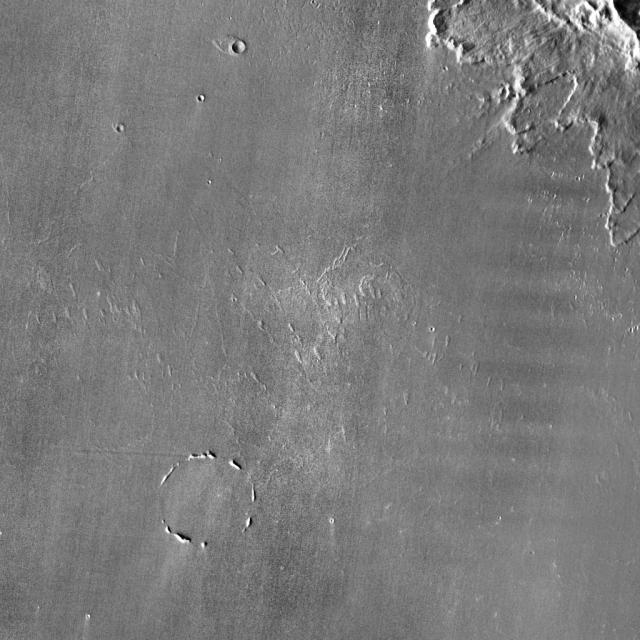crater: (165, 455, 261, 544), (232, 41, 245, 52), (118, 124, 126, 132)
